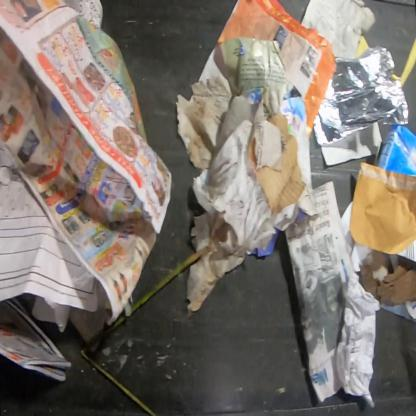cardboard: (247, 114, 305, 214)
soft_plastic: (313, 46, 410, 148)
